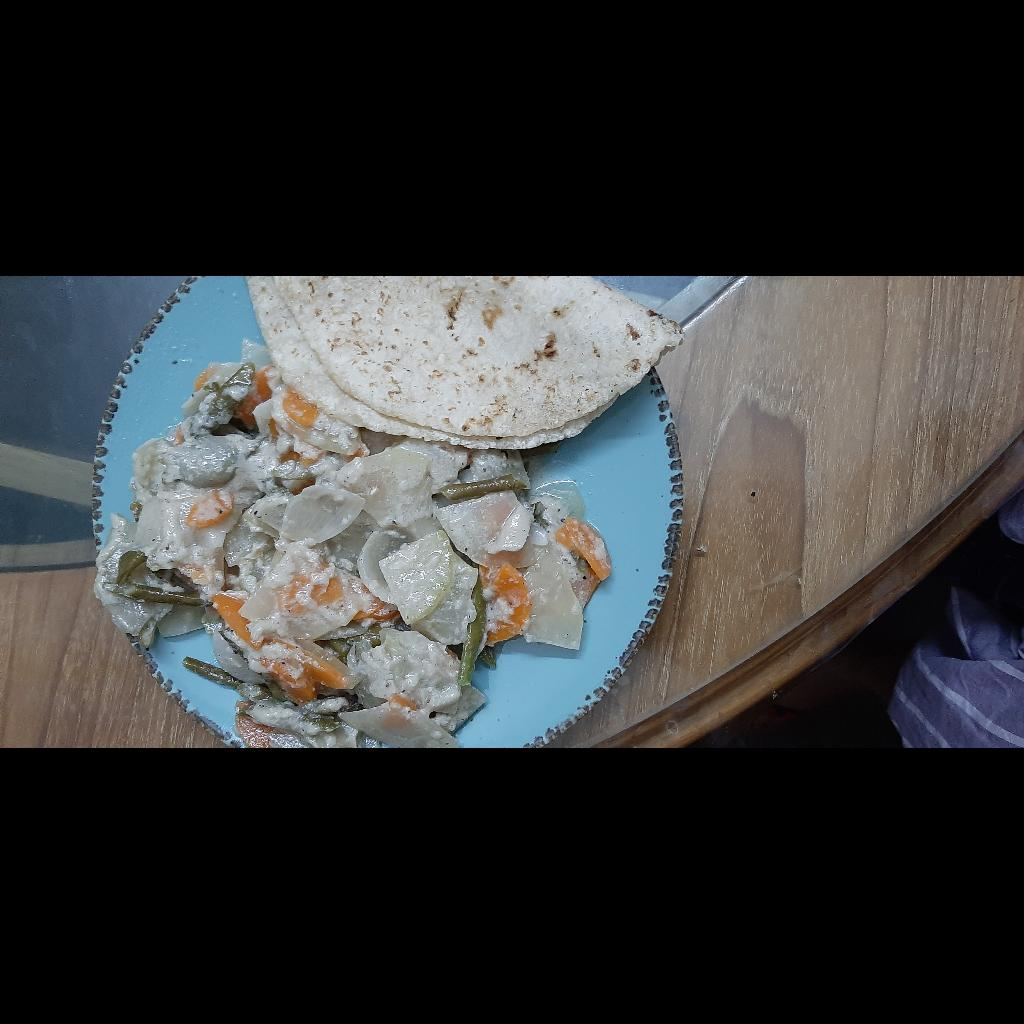ruti: (243, 276, 688, 451)
vegetable: (96, 363, 611, 748)
